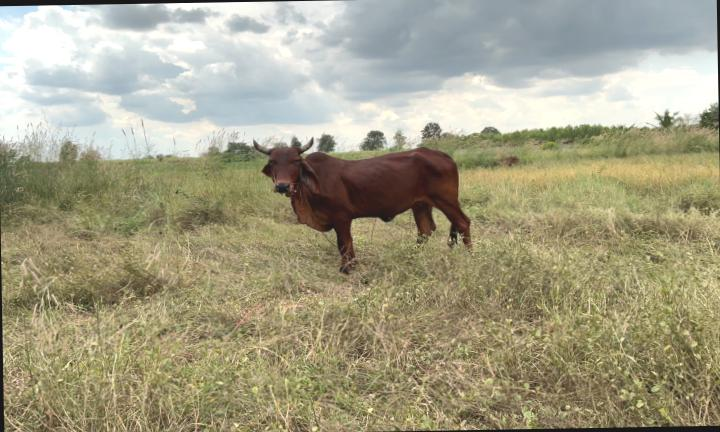Brahman: (253, 139, 470, 273)
